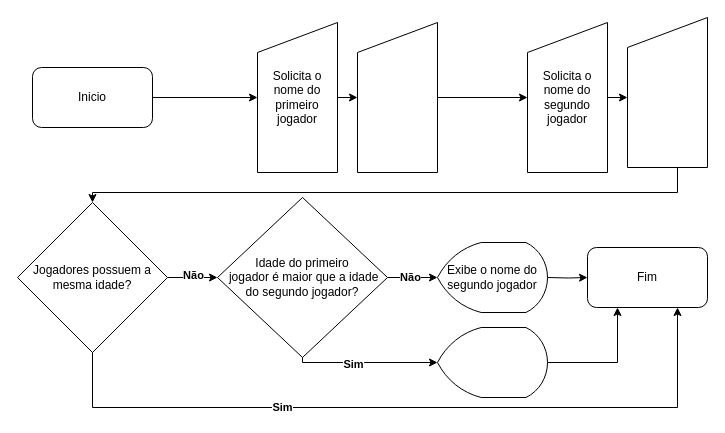
Some shapes in this 725 by 433 pixel diagram are drawn without their labels. The box of each missing label's shape, as (x1, y1, x2, y2) in pixels:
Exibe o nome do primeiro jogador: (436, 326, 548, 398)
Solicita a idade do primeiro jogador: (356, 22, 438, 172)
Solicita a idade do segundo jogador: (626, 16, 708, 168)
